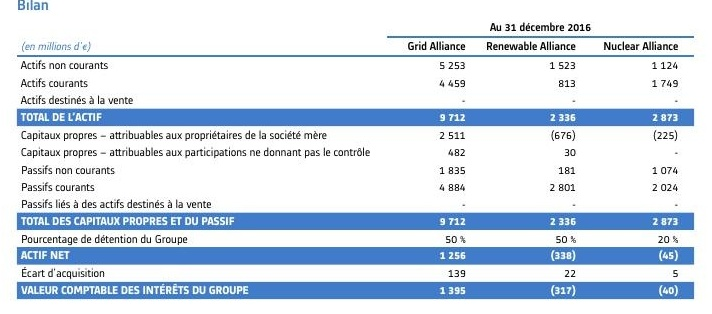table: (0, 0, 712, 314)
